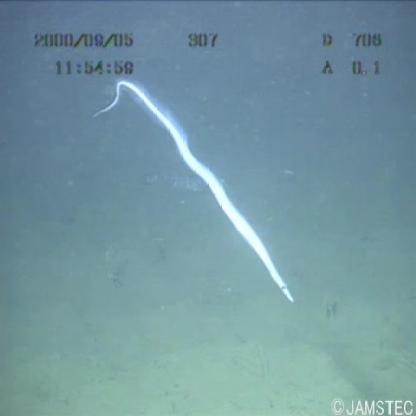Bio: (89, 76, 296, 308)
